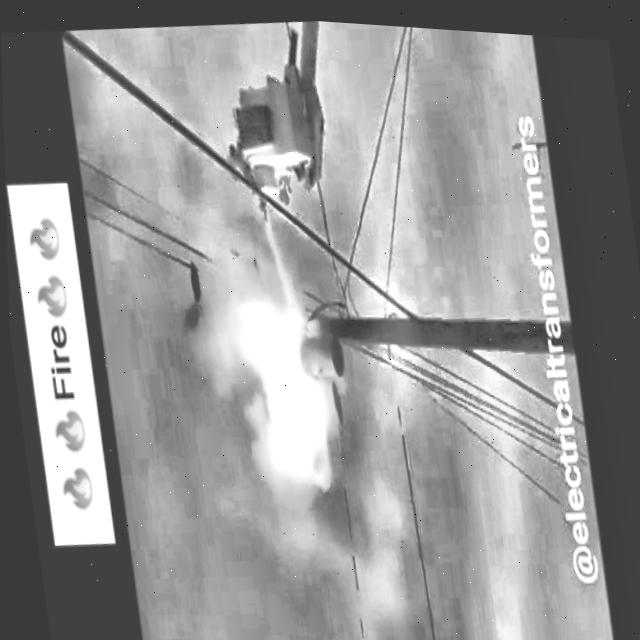Fire: (209, 240, 359, 527)
